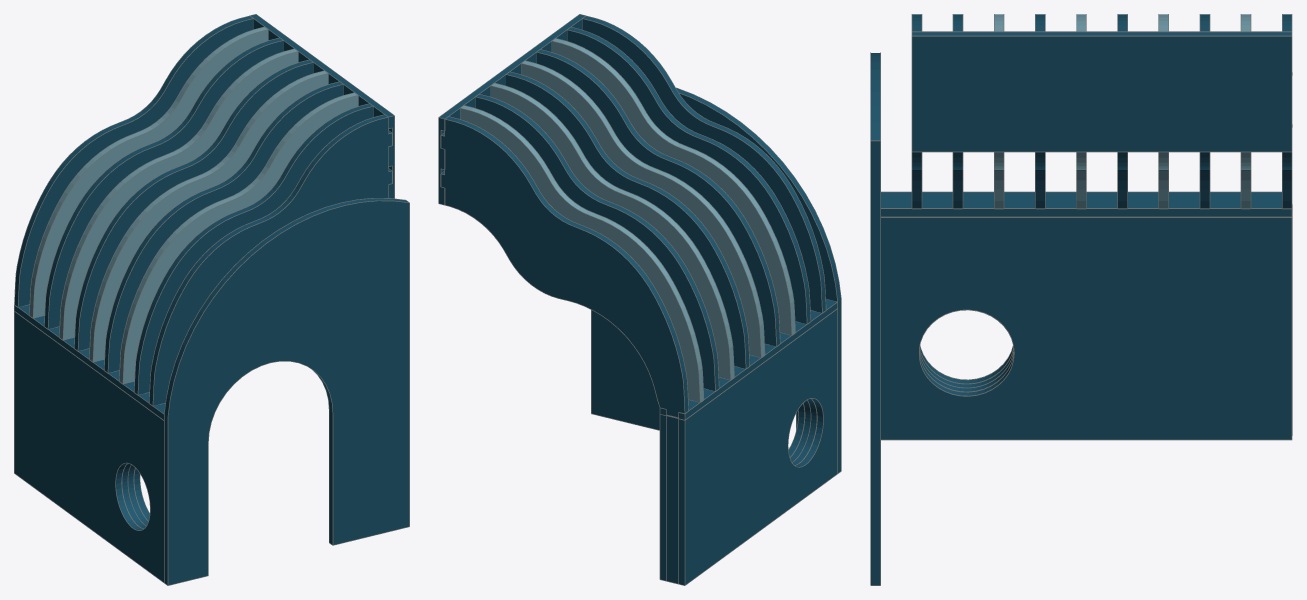
Rendered from modell.glb.
3 renders of one model, left to right at view 1: azimuth 30°, elevation 25°; view 2: azimuth 150°, elevation 25°; view 3: azimuth 270°, elevation 25°, orthographic. The views are drawn at different scales.
Bounding box in the file's own units: 1203 × 1903 × 1323.
